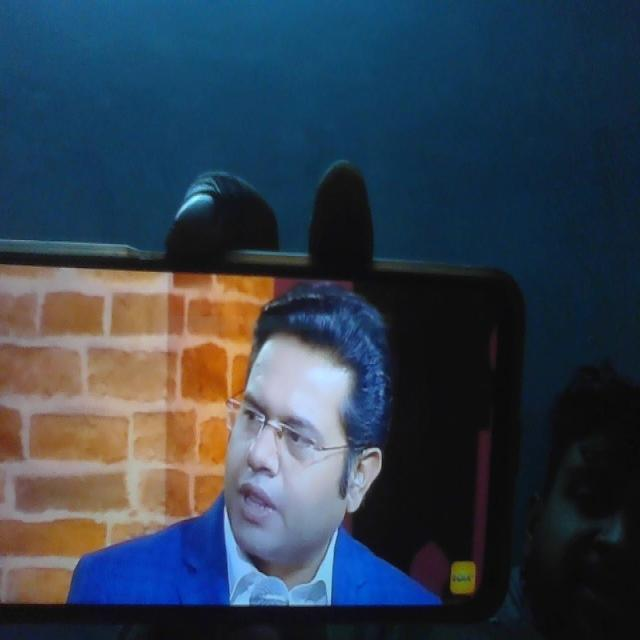fake: (221, 300, 363, 569)
